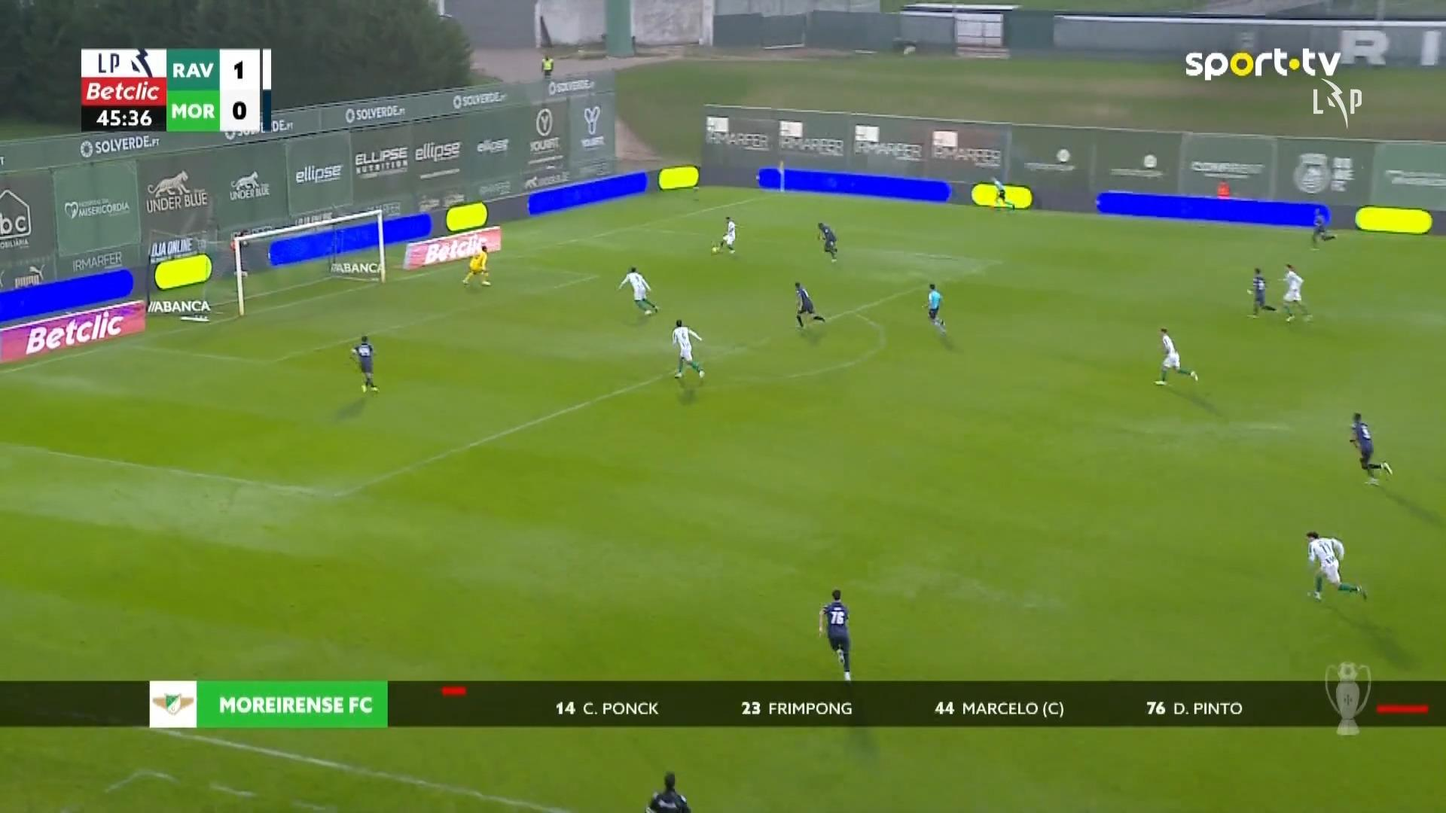ball: (710, 246, 718, 253)
goalkeeper: (461, 243, 491, 286)
player: (1304, 530, 1367, 601), (817, 587, 852, 681), (1348, 411, 1392, 485), (1154, 327, 1198, 385), (670, 318, 705, 379), (616, 266, 659, 315), (1280, 262, 1313, 322), (349, 333, 379, 393), (1246, 266, 1276, 318), (793, 281, 825, 328), (710, 215, 737, 254), (1310, 209, 1336, 248), (816, 221, 838, 263)
referee: (645, 770, 691, 811), (923, 282, 946, 333), (990, 175, 1014, 212)
